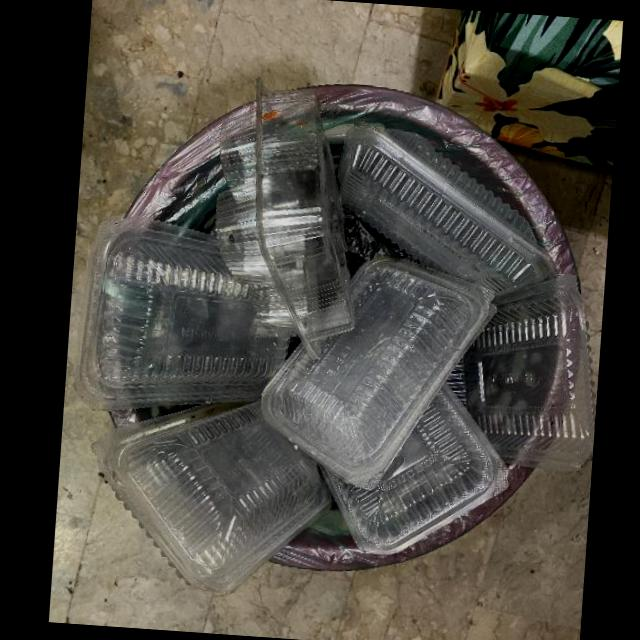hop_nhua: (260, 255, 497, 489), (107, 398, 333, 592), (73, 215, 289, 410), (337, 121, 556, 295), (215, 88, 354, 358), (317, 382, 509, 554), (447, 273, 594, 471)
